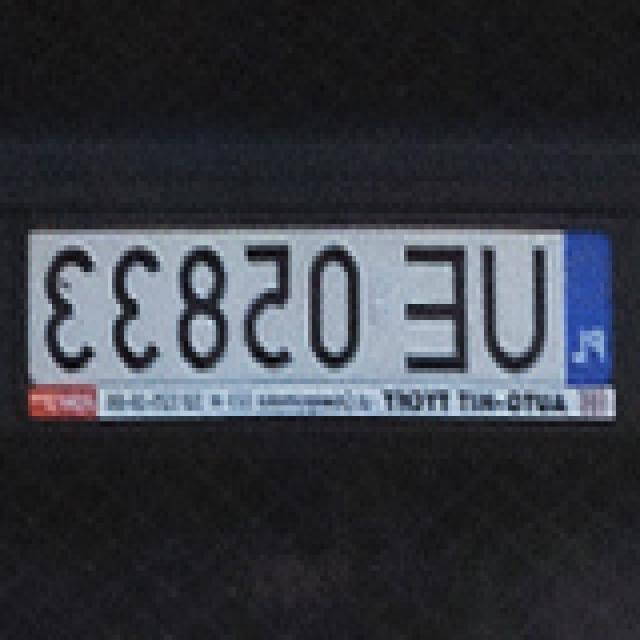pl_license_plate: (32, 218, 616, 378)
